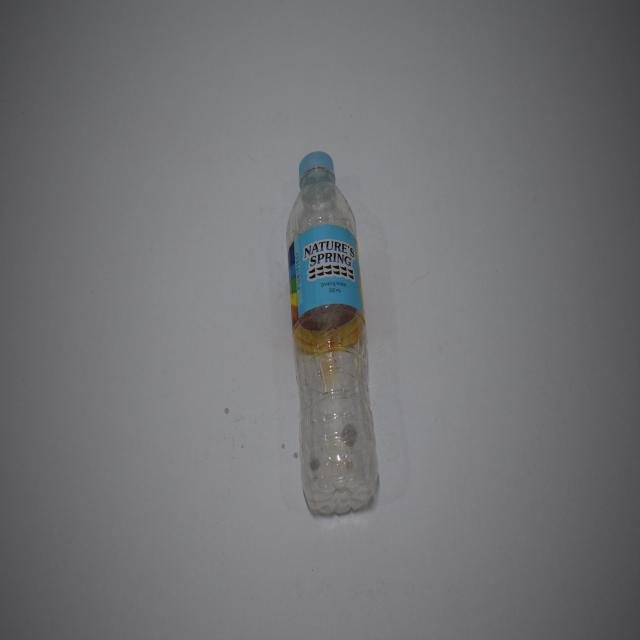bottle: (286, 148, 382, 518)
